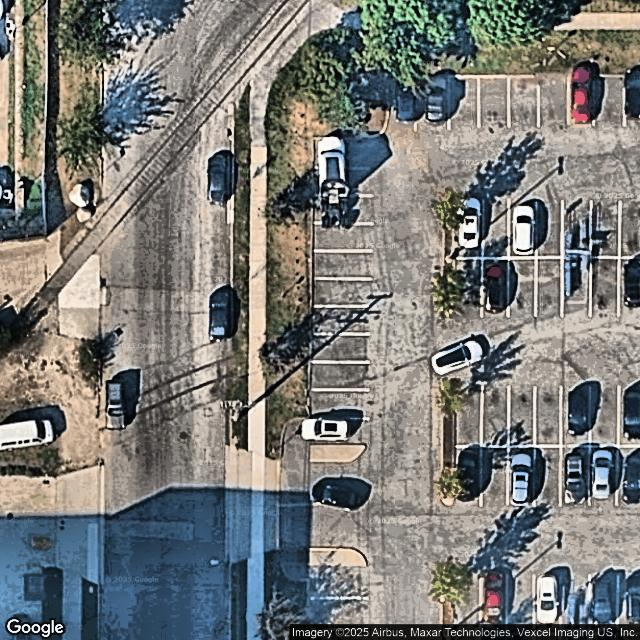car: (573, 71, 596, 122), (394, 75, 418, 121), (457, 199, 480, 247), (485, 260, 507, 309), (510, 453, 531, 503), (593, 578, 616, 623), (513, 207, 535, 254), (427, 77, 448, 123), (593, 450, 613, 498), (460, 451, 479, 501), (566, 455, 586, 502), (569, 390, 589, 436), (487, 573, 505, 623), (622, 455, 640, 503), (538, 578, 558, 621), (623, 392, 640, 441), (623, 259, 640, 307), (625, 579, 640, 621), (627, 73, 640, 117)
lot_boundary: (307, 73, 640, 625)
objects: (309, 71, 391, 139), (440, 377, 457, 505), (440, 198, 455, 315), (309, 548, 365, 568), (439, 567, 456, 628), (310, 445, 365, 463)
stall: (314, 138, 371, 171), (508, 72, 540, 127), (312, 360, 368, 391), (454, 197, 482, 259), (480, 444, 508, 505), (316, 221, 372, 251), (313, 305, 369, 335), (563, 252, 590, 314), (310, 389, 369, 417), (316, 249, 371, 279), (310, 569, 365, 599), (509, 198, 536, 258), (591, 386, 618, 445), (450, 77, 480, 130), (479, 74, 509, 127), (483, 197, 509, 258), (510, 384, 535, 447), (535, 257, 562, 315), (541, 74, 571, 126), (592, 203, 620, 258), (315, 196, 370, 224), (307, 597, 366, 623), (565, 385, 590, 446), (459, 380, 482, 446), (456, 257, 483, 313), (536, 447, 562, 505), (509, 258, 535, 316), (483, 386, 508, 446), (314, 279, 369, 306), (314, 334, 369, 361), (595, 75, 624, 126), (315, 171, 369, 198), (421, 78, 449, 130), (593, 255, 618, 313), (538, 383, 561, 446), (538, 200, 563, 257), (592, 447, 616, 505), (571, 72, 596, 127), (592, 576, 620, 625), (564, 576, 592, 624), (617, 389, 640, 447), (535, 573, 561, 624), (509, 572, 534, 625), (565, 447, 588, 504), (564, 203, 590, 253), (513, 446, 535, 505), (618, 445, 640, 504), (485, 259, 508, 314), (461, 445, 482, 504), (485, 572, 507, 628), (617, 203, 640, 256), (619, 257, 640, 313), (394, 77, 416, 129), (461, 573, 482, 625), (623, 73, 640, 125), (624, 578, 640, 626)
